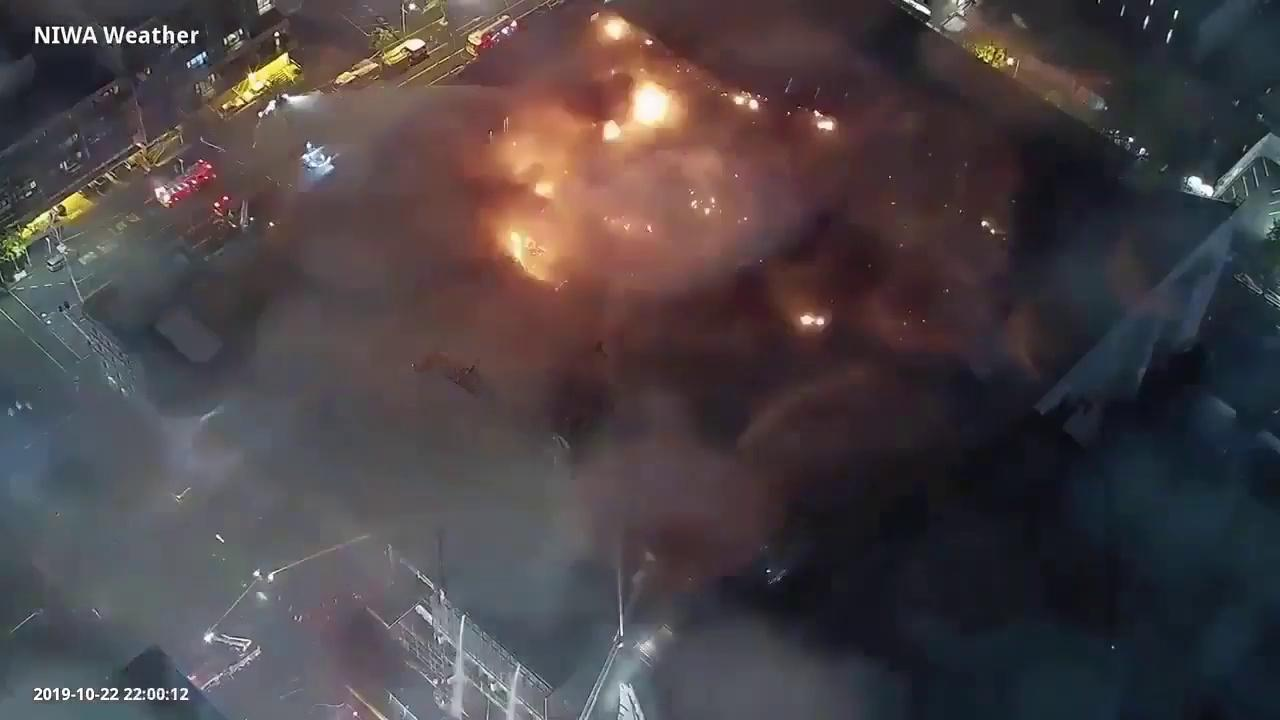Fire: (503, 228, 550, 279), (632, 87, 676, 126), (812, 107, 836, 135), (600, 17, 626, 39), (731, 94, 763, 111), (600, 119, 622, 141), (802, 310, 829, 325)
